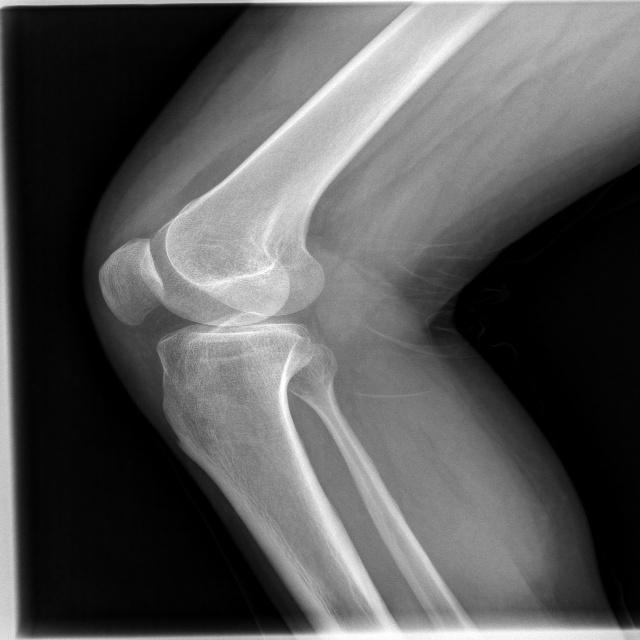Knee: (93, 225, 326, 407)
